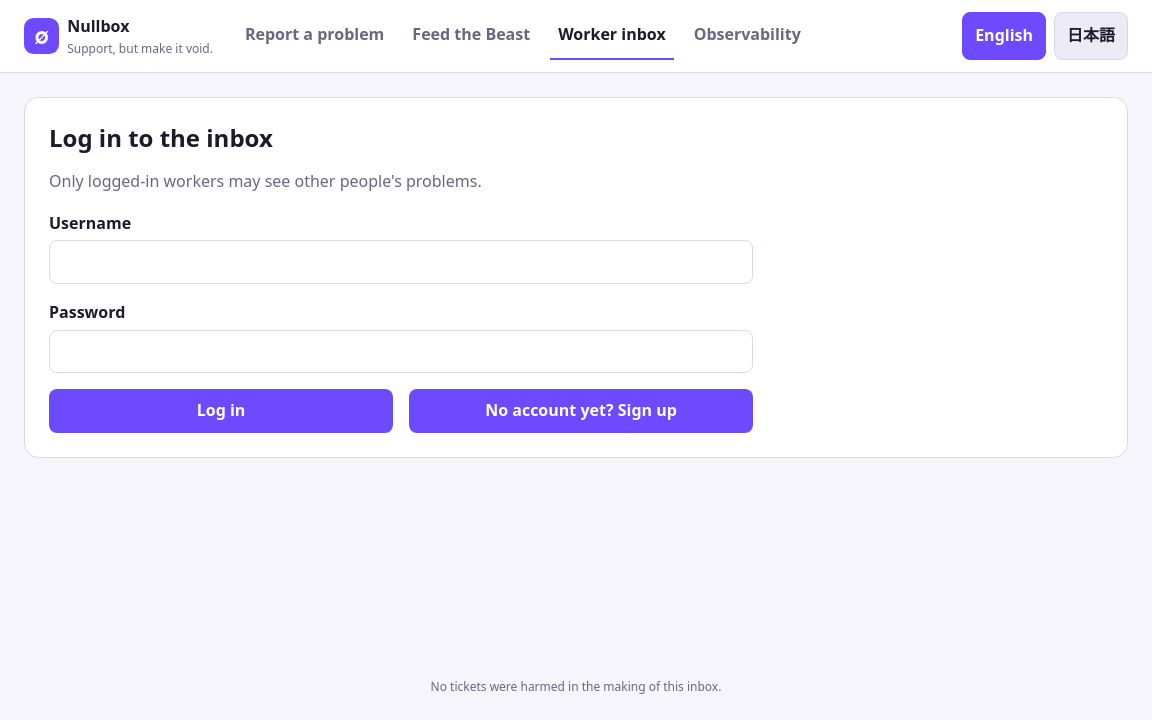
Test: RequireWorker › shows the invite input only when invite_required
The image size is (1152, 720).
Click the button "No account yet? Sign up": (581, 411) [409,389,753,433]
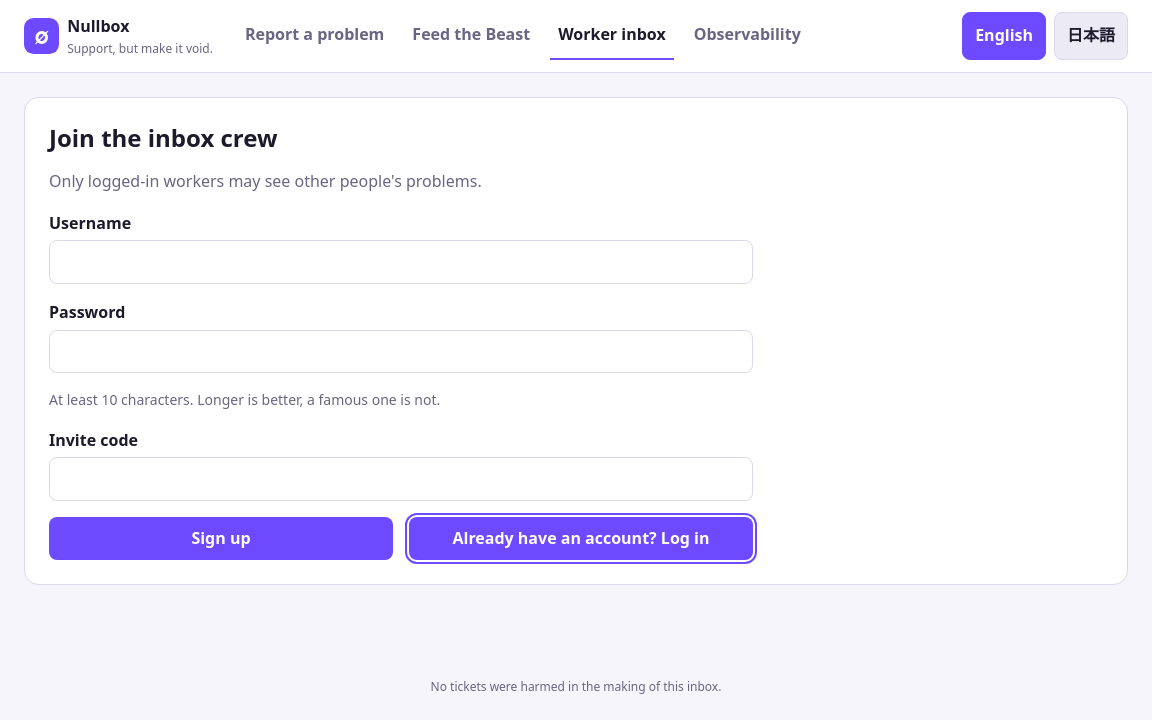
Check: the field labelled "Invite code" is shown, box [49,457,753,501]
